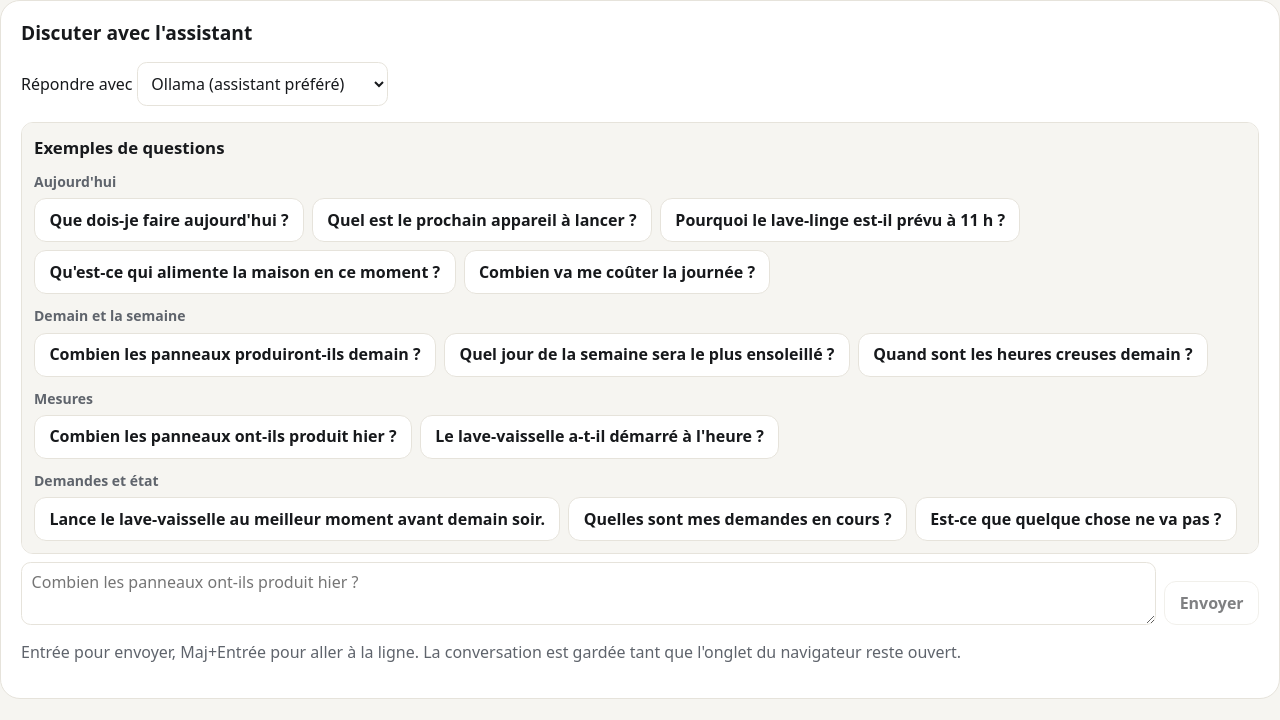
discussion avec l'assistant › envoie à l'agent de l'assistant préféré et garde le fil de la conversation
The image size is (1280, 720).
(page scrolled)
expect the dropdown labelled "Répondre avec" shows "Ollama (assistant préféré)": met, box [137,62,388,106]
Type "Pourquoi 11 h ?" into the text box named "Votre message" at (589, 594), box [21,562,1156,625]
Then press Enter
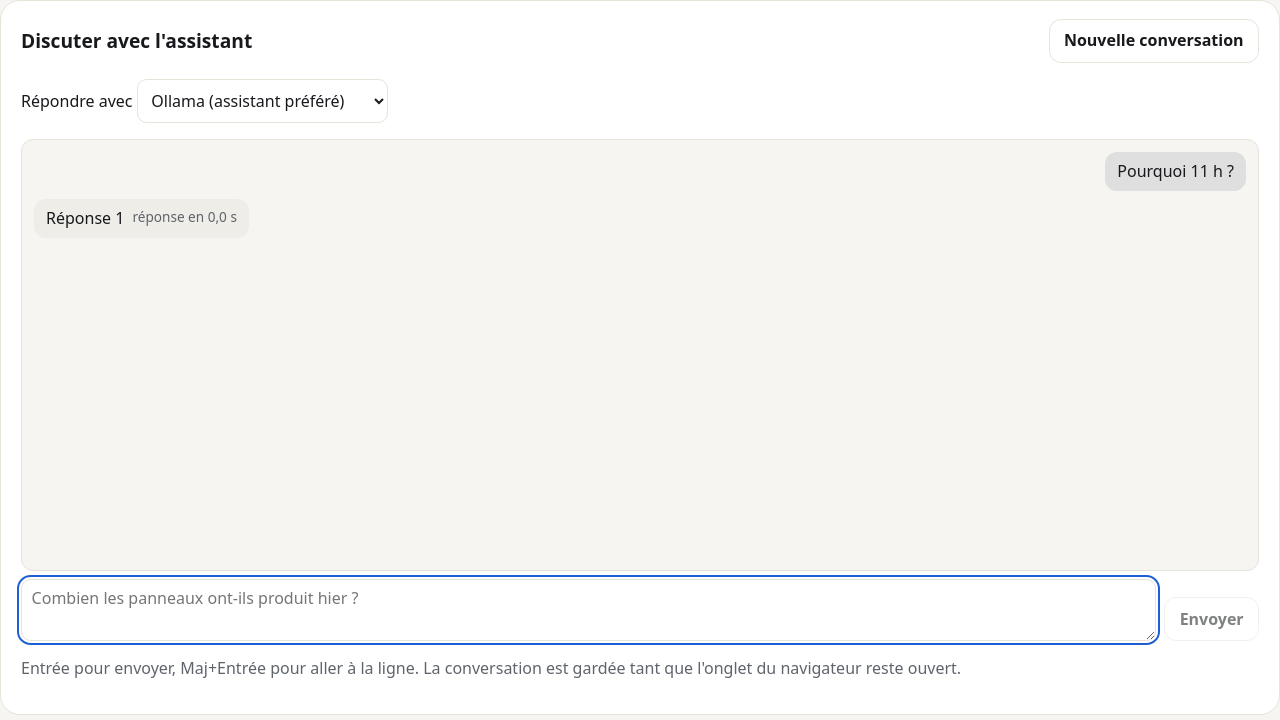
expect the text "Réponse 1" is shown: met, box [46,207,124,229]
expect the text "Pourquoi 11 h ?" is shown: met, box [1105,152,1246,191]
Type "Et demain ?" into the text box named "Votre message" at (589, 610), box [21,579,1156,641]
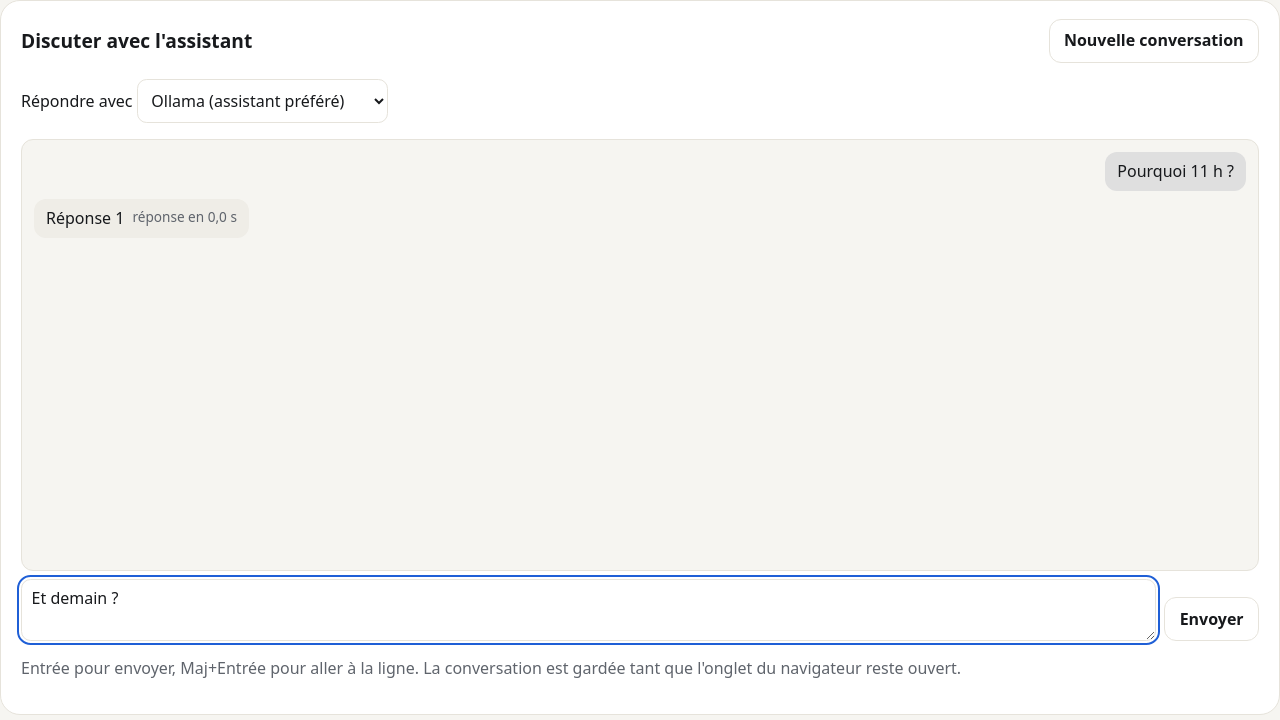
Click the button "Envoyer" at (1212, 619), box [1164,597,1259,641]
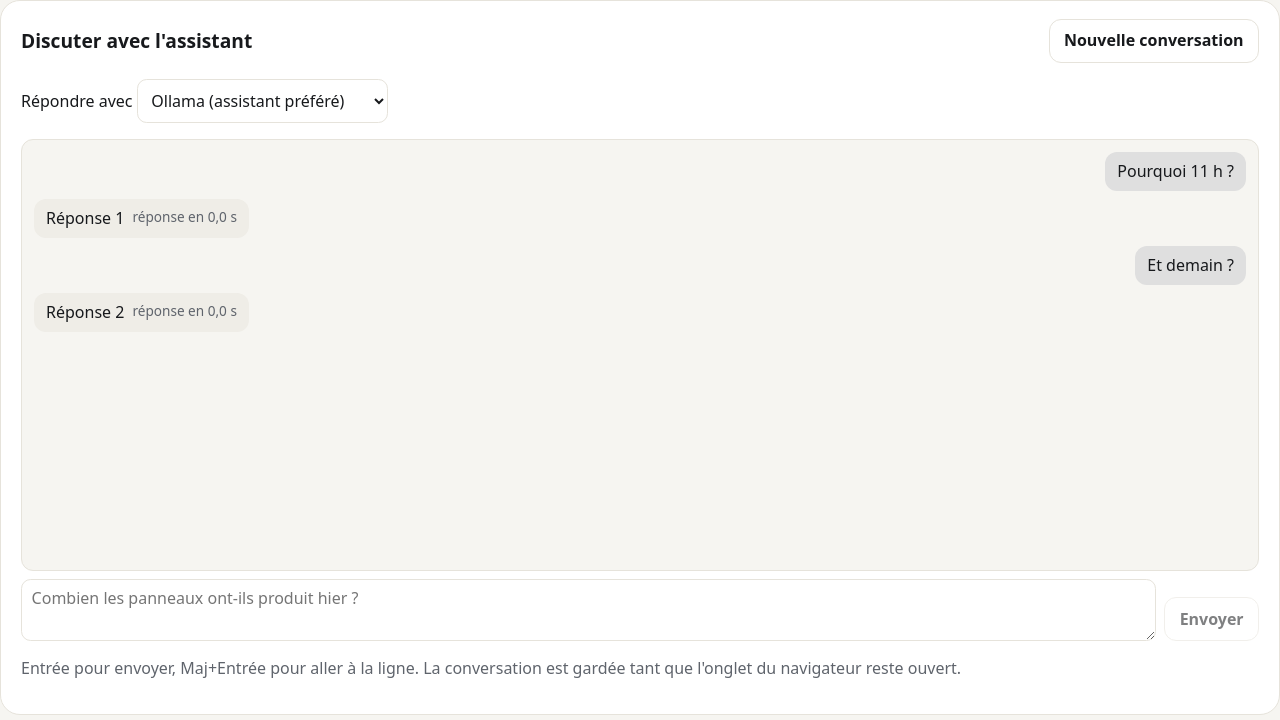
expect the text "Réponse 2" is shown: met, box [46,301,124,323]
